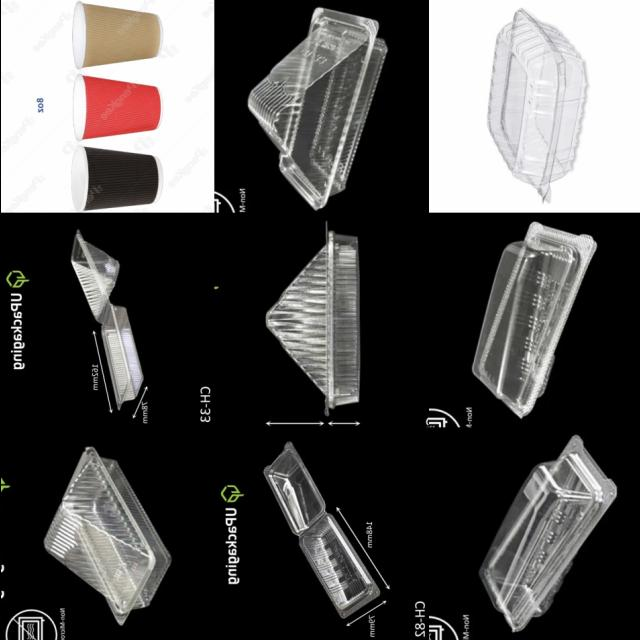plastik: (248, 8, 385, 209), (478, 436, 616, 632), (472, 222, 596, 417), (43, 447, 170, 624), (263, 442, 378, 617), (487, 9, 584, 201), (265, 231, 358, 409), (70, 231, 142, 406), (72, 2, 162, 68), (70, 146, 160, 212), (72, 75, 160, 141)
